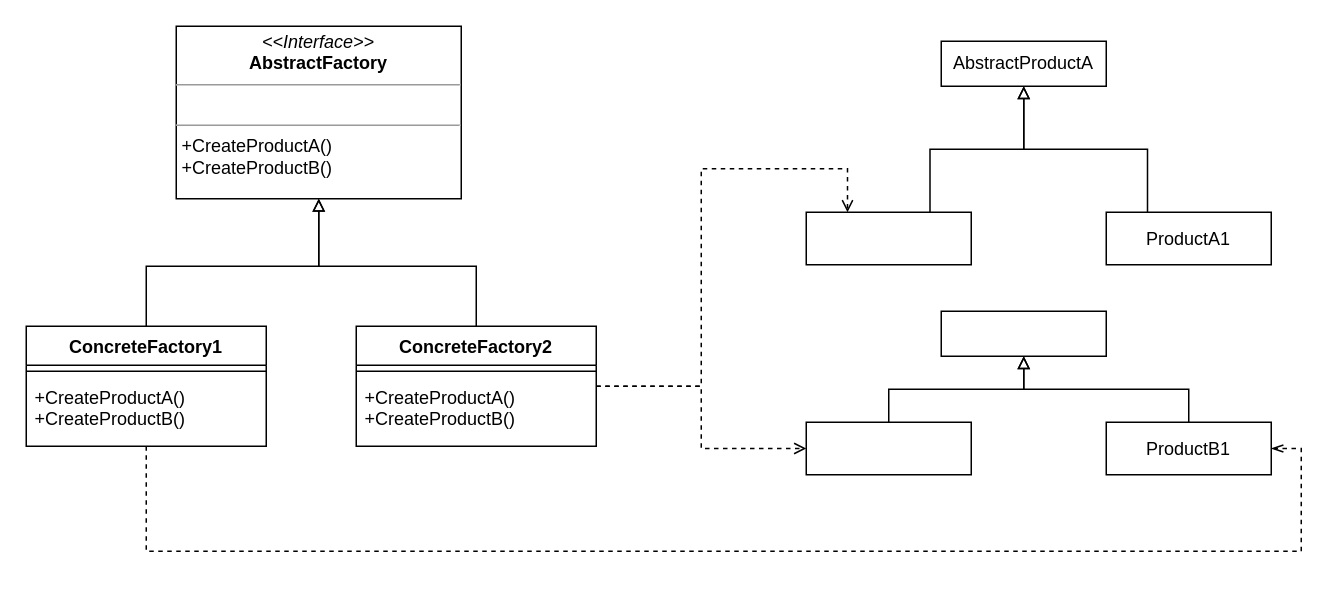
Some shapes in this 1340 by 590 pixel diagram are drawn without their labels. Each missing label, with the centre of its shape:
"AbstractProductB" goes at (1023,333).
"ProductA2" goes at (888,238).
"ProductB2" goes at (888,448).
